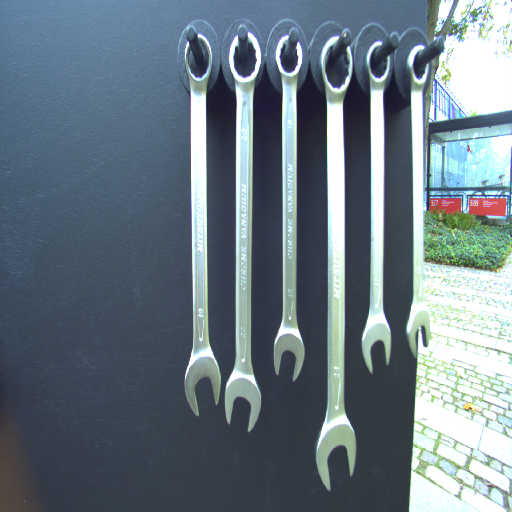bottom: (316, 412, 359, 493), (181, 344, 224, 416), (222, 371, 264, 435), (270, 324, 306, 385), (359, 313, 394, 374), (401, 304, 434, 357)
top: (226, 25, 263, 89), (318, 34, 355, 98), (179, 27, 216, 85), (274, 32, 305, 83), (404, 43, 433, 92), (365, 39, 392, 88)
